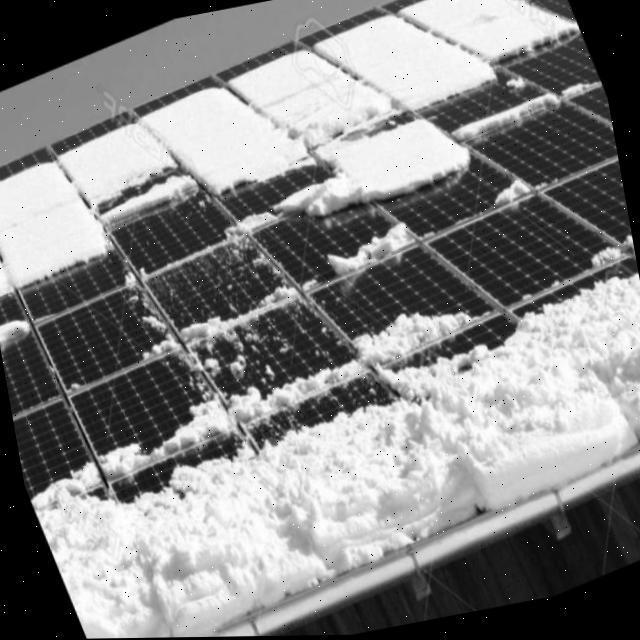Snow: (28, 262, 640, 639), (39, 309, 480, 496), (264, 111, 477, 236), (146, 267, 318, 394), (314, 214, 424, 295), (442, 84, 572, 146), (482, 162, 554, 224), (212, 197, 286, 257), (574, 225, 637, 282), (546, 68, 605, 112), (0, 307, 38, 358)
